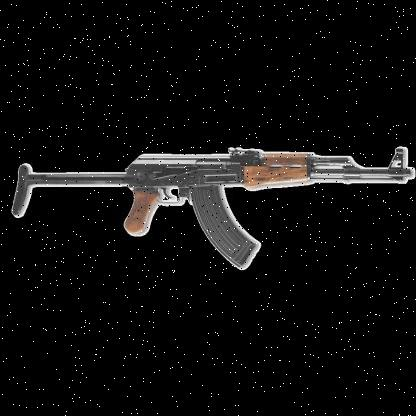rifle: (14, 116, 414, 276)
